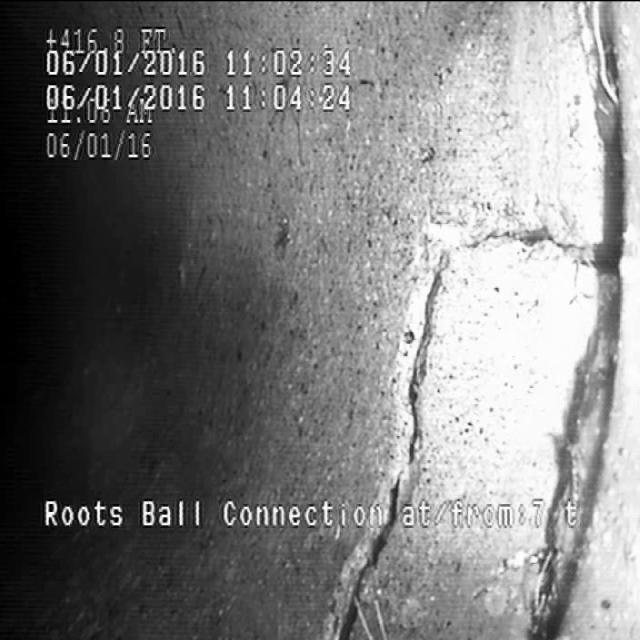Crack: (342, 148, 619, 480)
